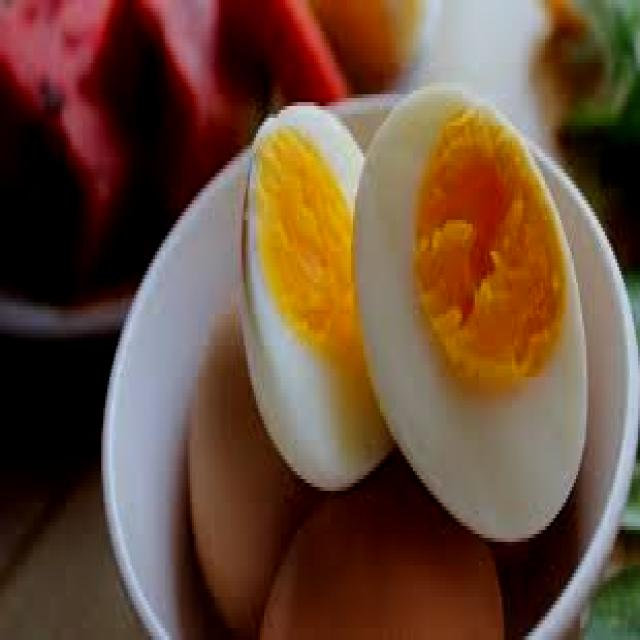telur rebus: (353, 86, 586, 550), (239, 102, 394, 495)
